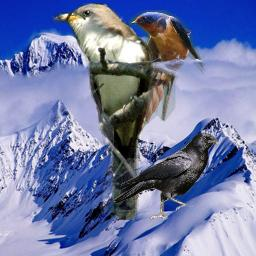Crow: (114, 132, 223, 221)
Cuckoo: (52, 3, 157, 220)
Swallow: (119, 10, 205, 146)
